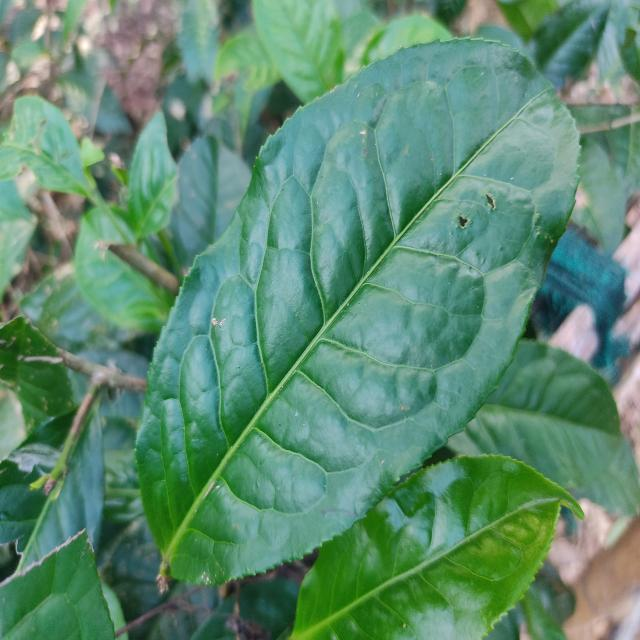Category D 7+ days, Not for Tea: (131, 25, 593, 594)
